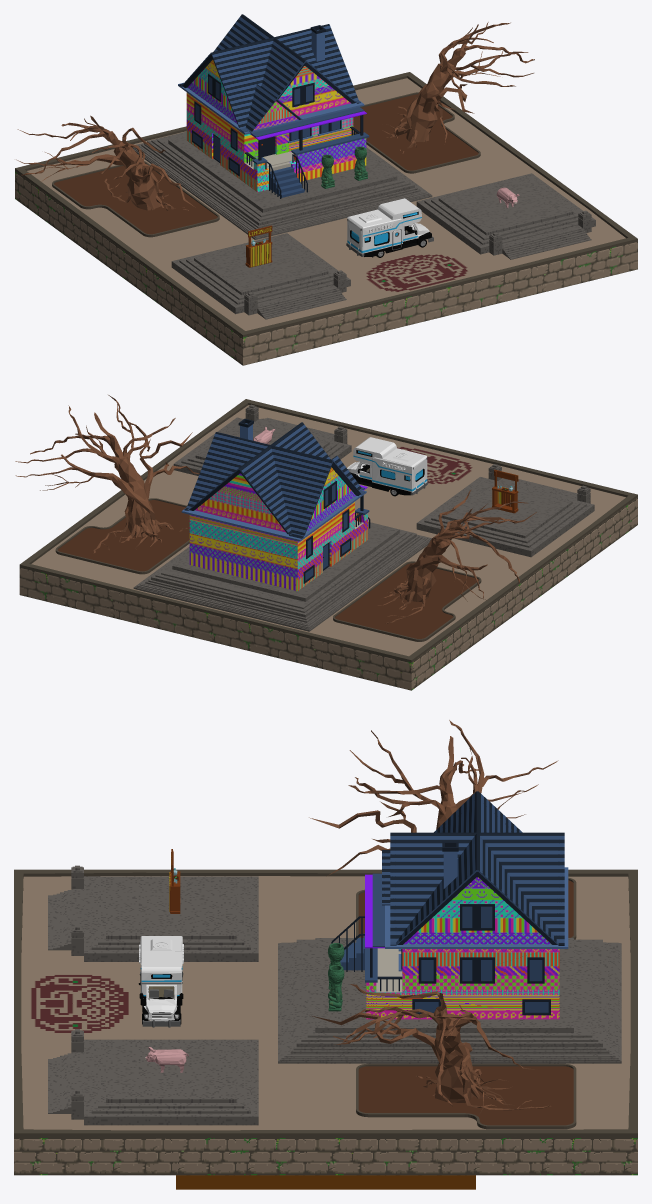
3 views of the same model, one above another, from view 1: azimuth 30°, elevation 25°; view 2: azimuth 150°, elevation 25°; view 3: azimuth 270°, elevation 25° (orthographic). The views are drawn at different scales.
Visible parts, largest first — view 1: Cube.011, Cube.676, VEHICLES_CAMPER, OBJRANDOM_LEMONADE_STAND; view 2: Cube.011, Cube.676, VEHICLES_CAMPER, OBJRANDOM_LEMONADE_STAND; view 3: Cube.011, Cube.676, UNDERGROUND_ART_PIECE_VAN_GOGH, VEHICLES_CAMPER, ANIMAL_CERDO.
Boxes of the visible parts, x1=… form: Cube.011: x1=15, y1=22, x2=637, y2=365; Cube.676: x1=178, y1=14, x2=369, y2=198; VEHICLES_CAMPER: x1=346, y1=198, x2=433, y2=257; OBJRANDOM_LEMONADE_STAND: x1=245, y1=225, x2=272, y2=267; Cube.011: x1=15, y1=395, x2=637, y2=690; Cube.676: x1=181, y1=418, x2=370, y2=591; VEHICLES_CAMPER: x1=347, y1=437, x2=428, y2=496; OBJRANDOM_LEMONADE_STAND: x1=492, y1=469, x2=518, y2=513; Cube.011: x1=14, y1=720, x2=637, y2=1175; Cube.676: x1=331, y1=791, x2=568, y2=1019; UNDERGROUND_ART_PIECE_VAN_GOGH: x1=176, y1=1175, x2=475, y2=1189; VEHICLES_CAMPER: x1=138, y1=936, x2=183, y2=1027; ANIMAL_CERDO: x1=145, y1=1047, x2=188, y2=1072.
Bounding box in the file's own units: 5099 × 1785 × 4000.
41 materials, 10 textured.
